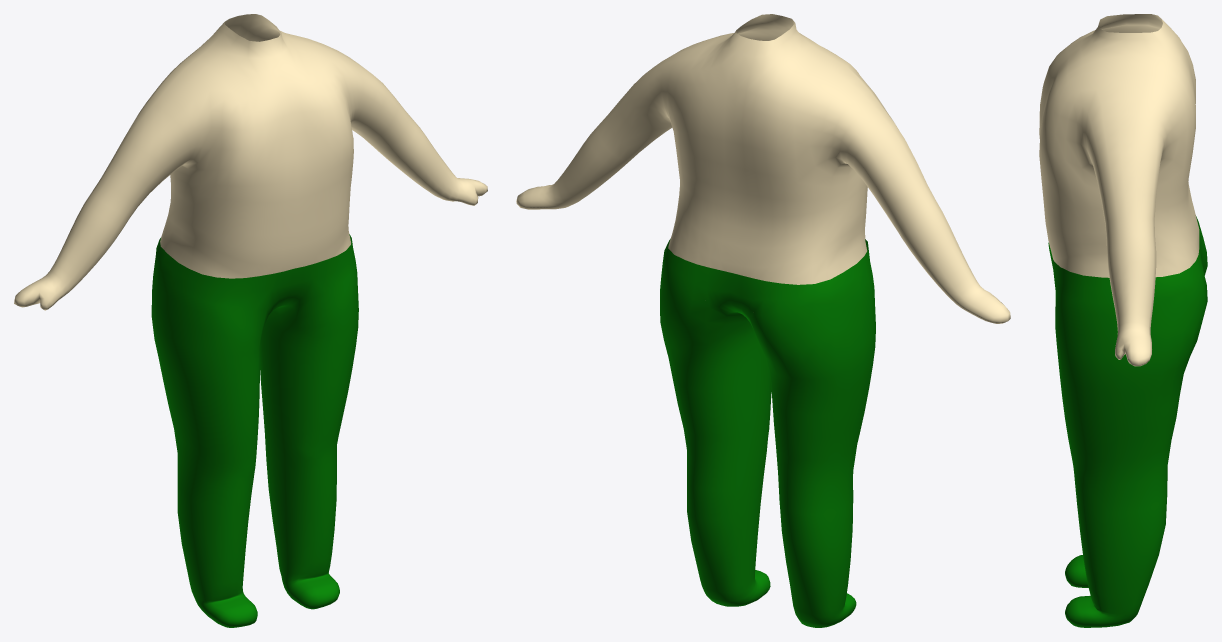
File: sox_green_santa.fbx
The picture shows the model from 3 angles, left to right: view 1: azimuth 30°, elevation 25°; view 2: azimuth 150°, elevation 25°; view 3: azimuth 270°, elevation 25°; orthographic projection. The views are drawn at different scales.
Parts seen in each view (by area): view 1: body, sox_santa; view 2: body, sox_santa; view 3: body, sox_santa.
Part boxes in pixels (box(x1,y1,x2,y2)): body: box(14, 14, 487, 310); sox_santa: box(151, 234, 358, 627); body: box(516, 14, 1010, 323); sox_santa: box(660, 239, 875, 627); body: box(1039, 14, 1199, 366); sox_santa: box(1048, 216, 1207, 627).
Bounding box in the file's own units: 2.15 × 2.48 × 0.6546.
